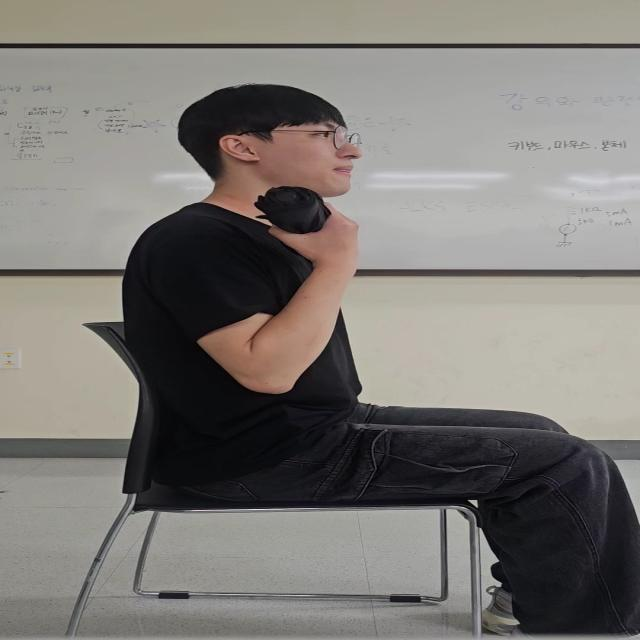curl: (162, 242, 330, 402)
